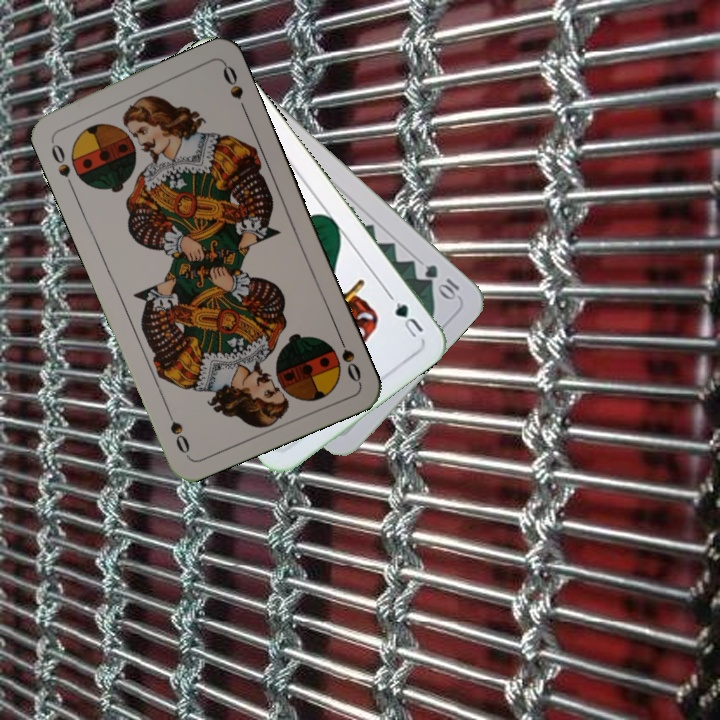G10: (420, 260, 462, 302)
GU: (390, 298, 426, 341)
SO: (333, 328, 364, 385), (46, 134, 74, 180)
